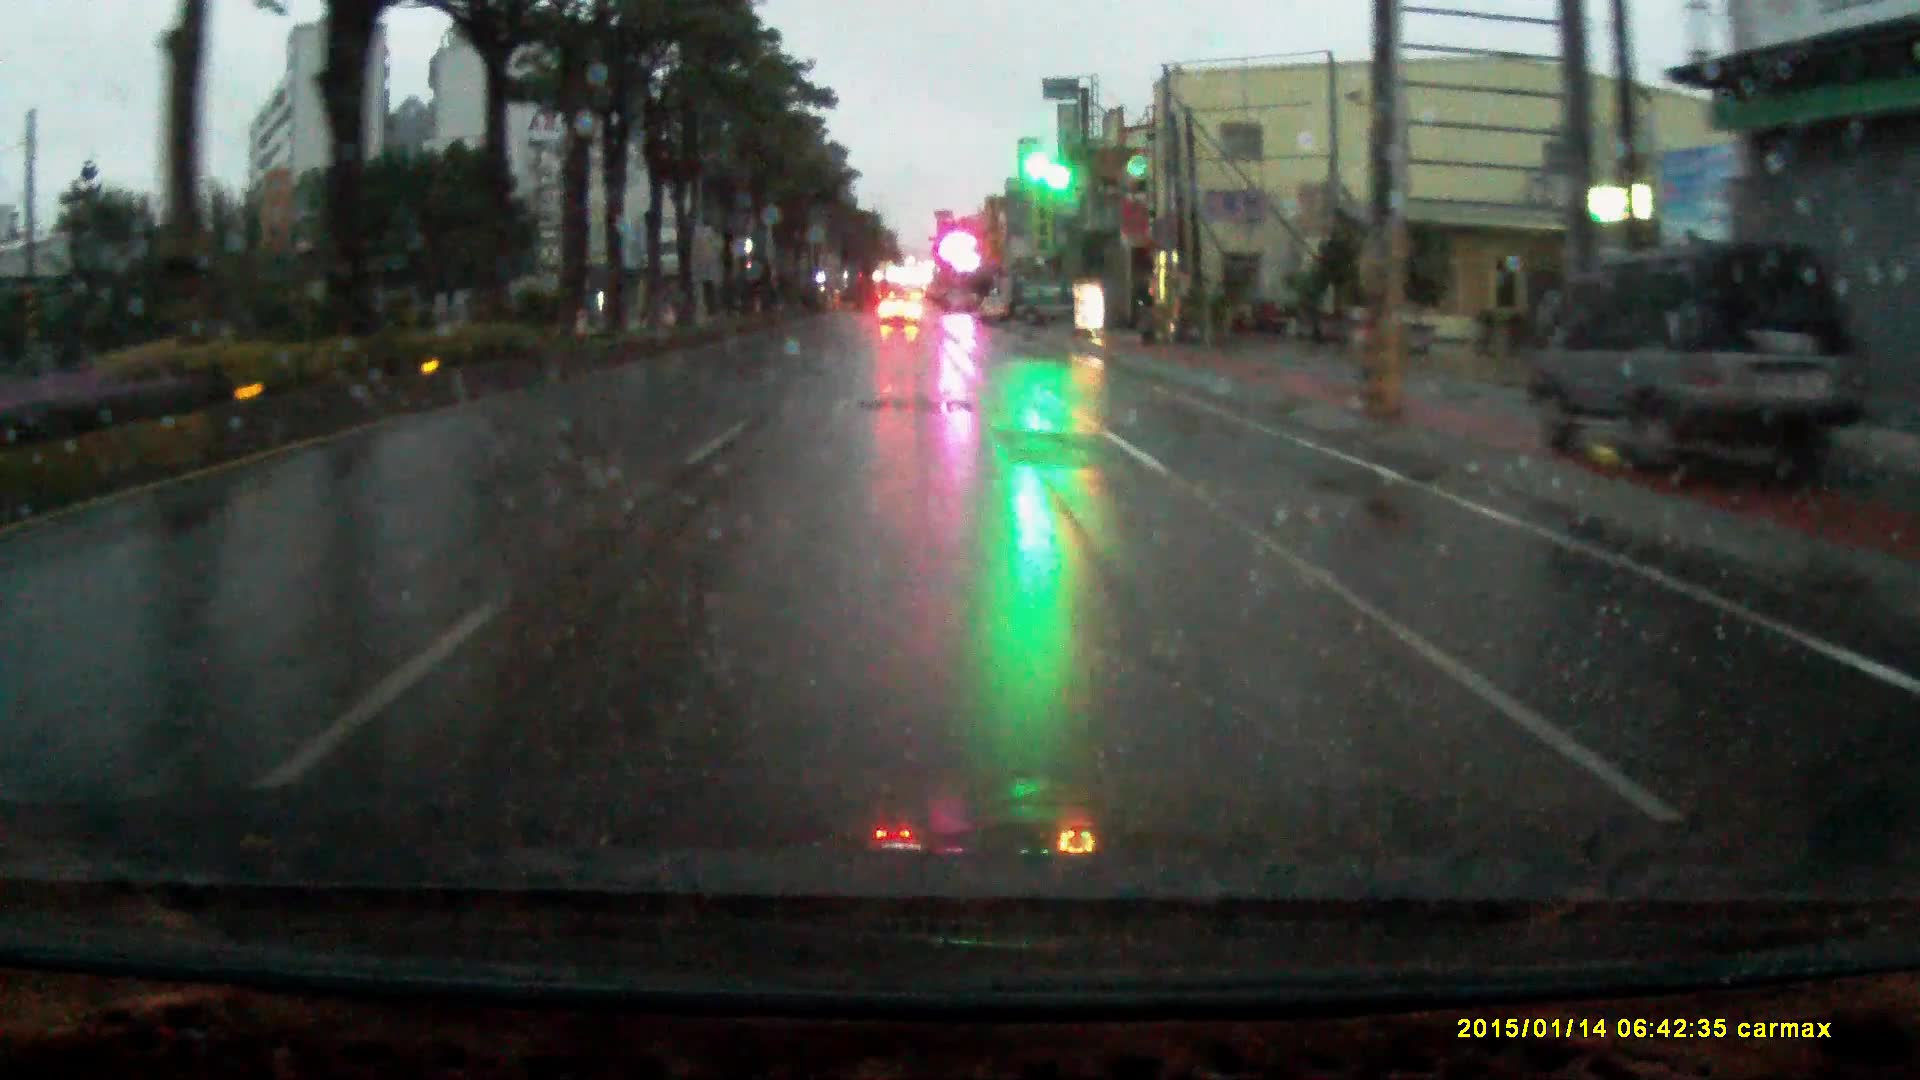vehicle: (1543, 232, 1876, 477), (1014, 285, 1080, 327), (878, 285, 924, 320)
